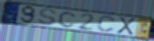2: (77, 13, 96, 32)
9: (19, 5, 37, 25)
C: (97, 15, 117, 33), (57, 11, 78, 28)
S: (37, 8, 58, 26)
X: (117, 16, 137, 36)
